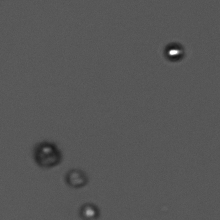Dead Cell: (33, 141, 63, 169), (64, 168, 90, 189)
Living Cell: (164, 41, 185, 63), (80, 202, 99, 218)
